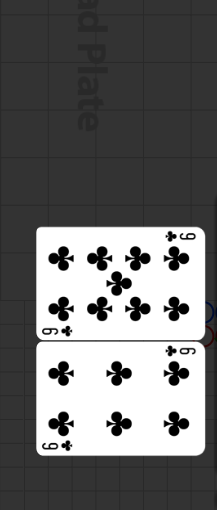6C: (163, 345, 197, 359)
9C: (162, 230, 197, 244)
